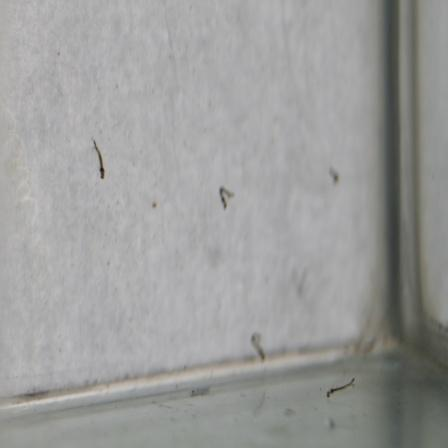Jentik-Nyamuk: (88, 137, 109, 183), (324, 373, 357, 402)
